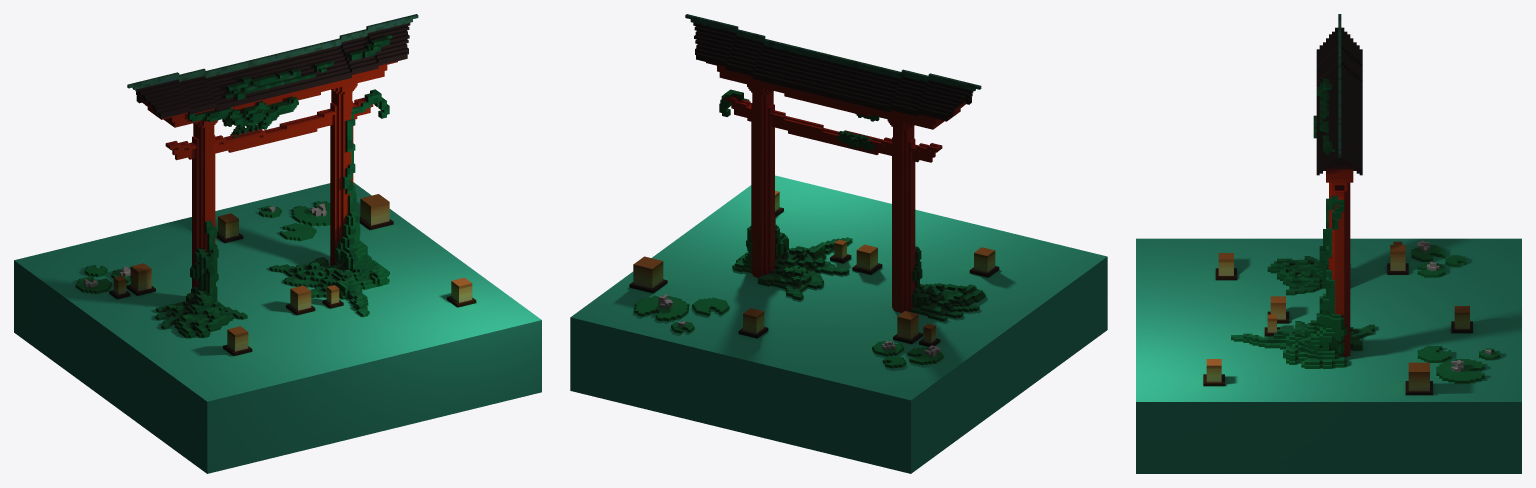
The model's file is torii-gate.glb.
3 views of the same model, side by side, from view 1: azimuth 30°, elevation 25°; view 2: azimuth 150°, elevation 25°; view 3: azimuth 270°, elevation 25° (orthographic).
Visible parts, largest first — view 1: japanese-gate; view 2: japanese-gate; view 3: japanese-gate.
Part boxes in pixels (<box>): japanese-gate: <box>14,14,541,473</box>; japanese-gate: <box>570,14,1107,473</box>; japanese-gate: <box>1136,14,1521,473</box>.
Bounding box in the file's own units: 126 × 111 × 126.
Materials: 1 (1 with a texture image).
